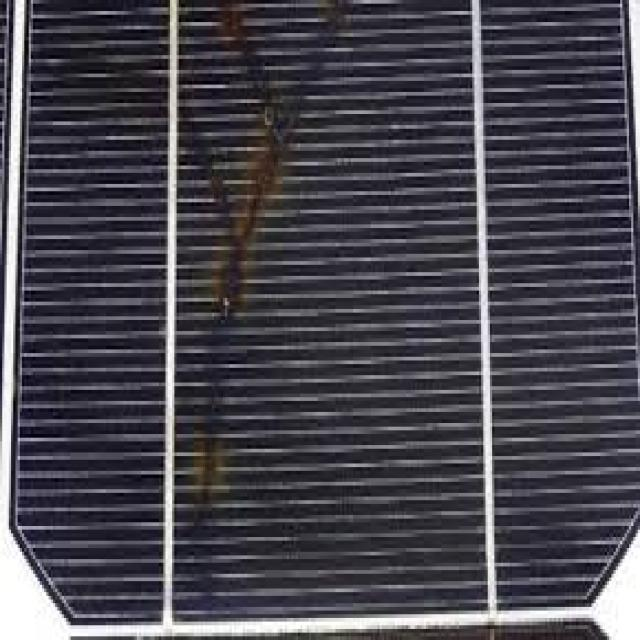faulty: (24, 0, 640, 625)
